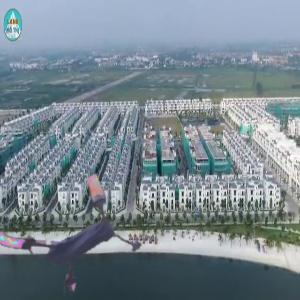drone: (12, 174, 138, 300)
